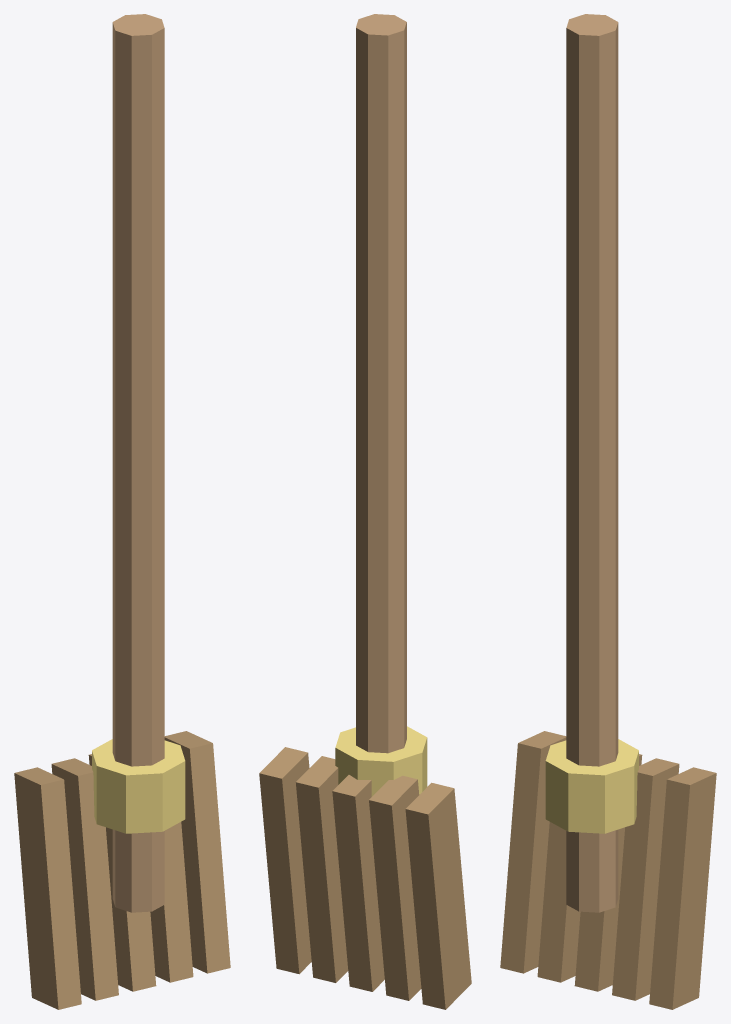
File: tool_broom.glb
The picture shows the model from 3 angles, left to right: view 1: azimuth 30°, elevation 25°; view 2: azimuth 150°, elevation 25°; view 3: azimuth 330°, elevation 25°; orthographic projection.
Parts seen in each view (by area): view 1: stick, bristle_0, bristle_1, bristle_4, collar, bristle_3, bristle_2; view 2: stick, bristle_0, bristle_4, bristle_1, bristle_3, bristle_2, collar; view 3: stick, bristle_4, bristle_3, bristle_0, collar, bristle_1, bristle_2.
Part boxes in pixels (x1=…): stick: x1=112, y1=14, x2=164, y2=912; bristle_0: x1=14, y1=767, x2=81, y2=1009; bristle_1: x1=51, y1=758, x2=118, y2=1000; bristle_4: x1=164, y1=731, x2=230, y2=973; collar: x1=92, y1=739, x2=185, y2=833; bristle_3: x1=150, y1=822, x2=193, y2=982; bristle_2: x1=88, y1=754, x2=156, y2=991; stick: x1=356, y1=14, x2=406, y2=753; bristle_0: x1=405, y1=782, x2=471, y2=1009; bristle_4: x1=259, y1=747, x2=311, y2=974; bristle_1: x1=369, y1=775, x2=421, y2=1000; bristle_3: x1=295, y1=756, x2=348, y2=982; bristle_2: x1=332, y1=775, x2=384, y2=991; collar: x1=335, y1=726, x2=427, y2=796; stick: x1=566, y1=14, x2=618, y2=912; bristle_4: x1=649, y1=767, x2=716, y2=1009; bristle_3: x1=612, y1=758, x2=679, y2=1000; bristle_0: x1=500, y1=731, x2=566, y2=973; collar: x1=545, y1=739, x2=638, y2=833; bristle_1: x1=537, y1=822, x2=580, y2=982; bristle_2: x1=574, y1=754, x2=642, y2=991.
Bounding box in the file's own units: 0.185 × 0.9925 × 0.1162.
